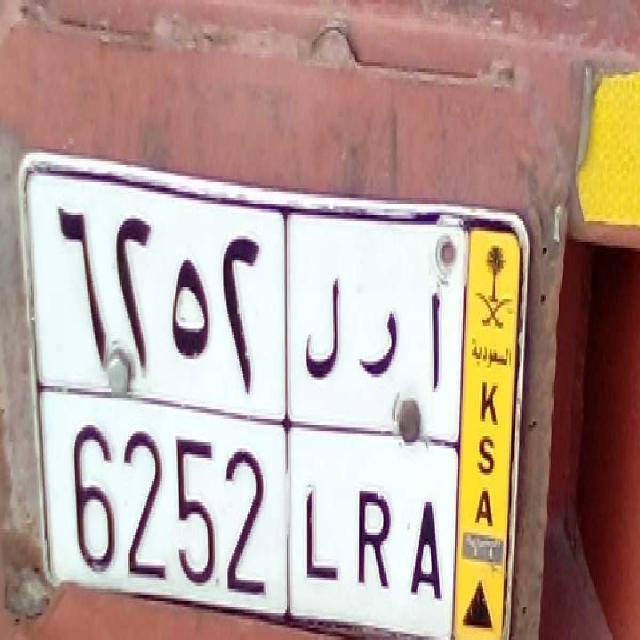license_plate: (33, 393, 453, 637)
